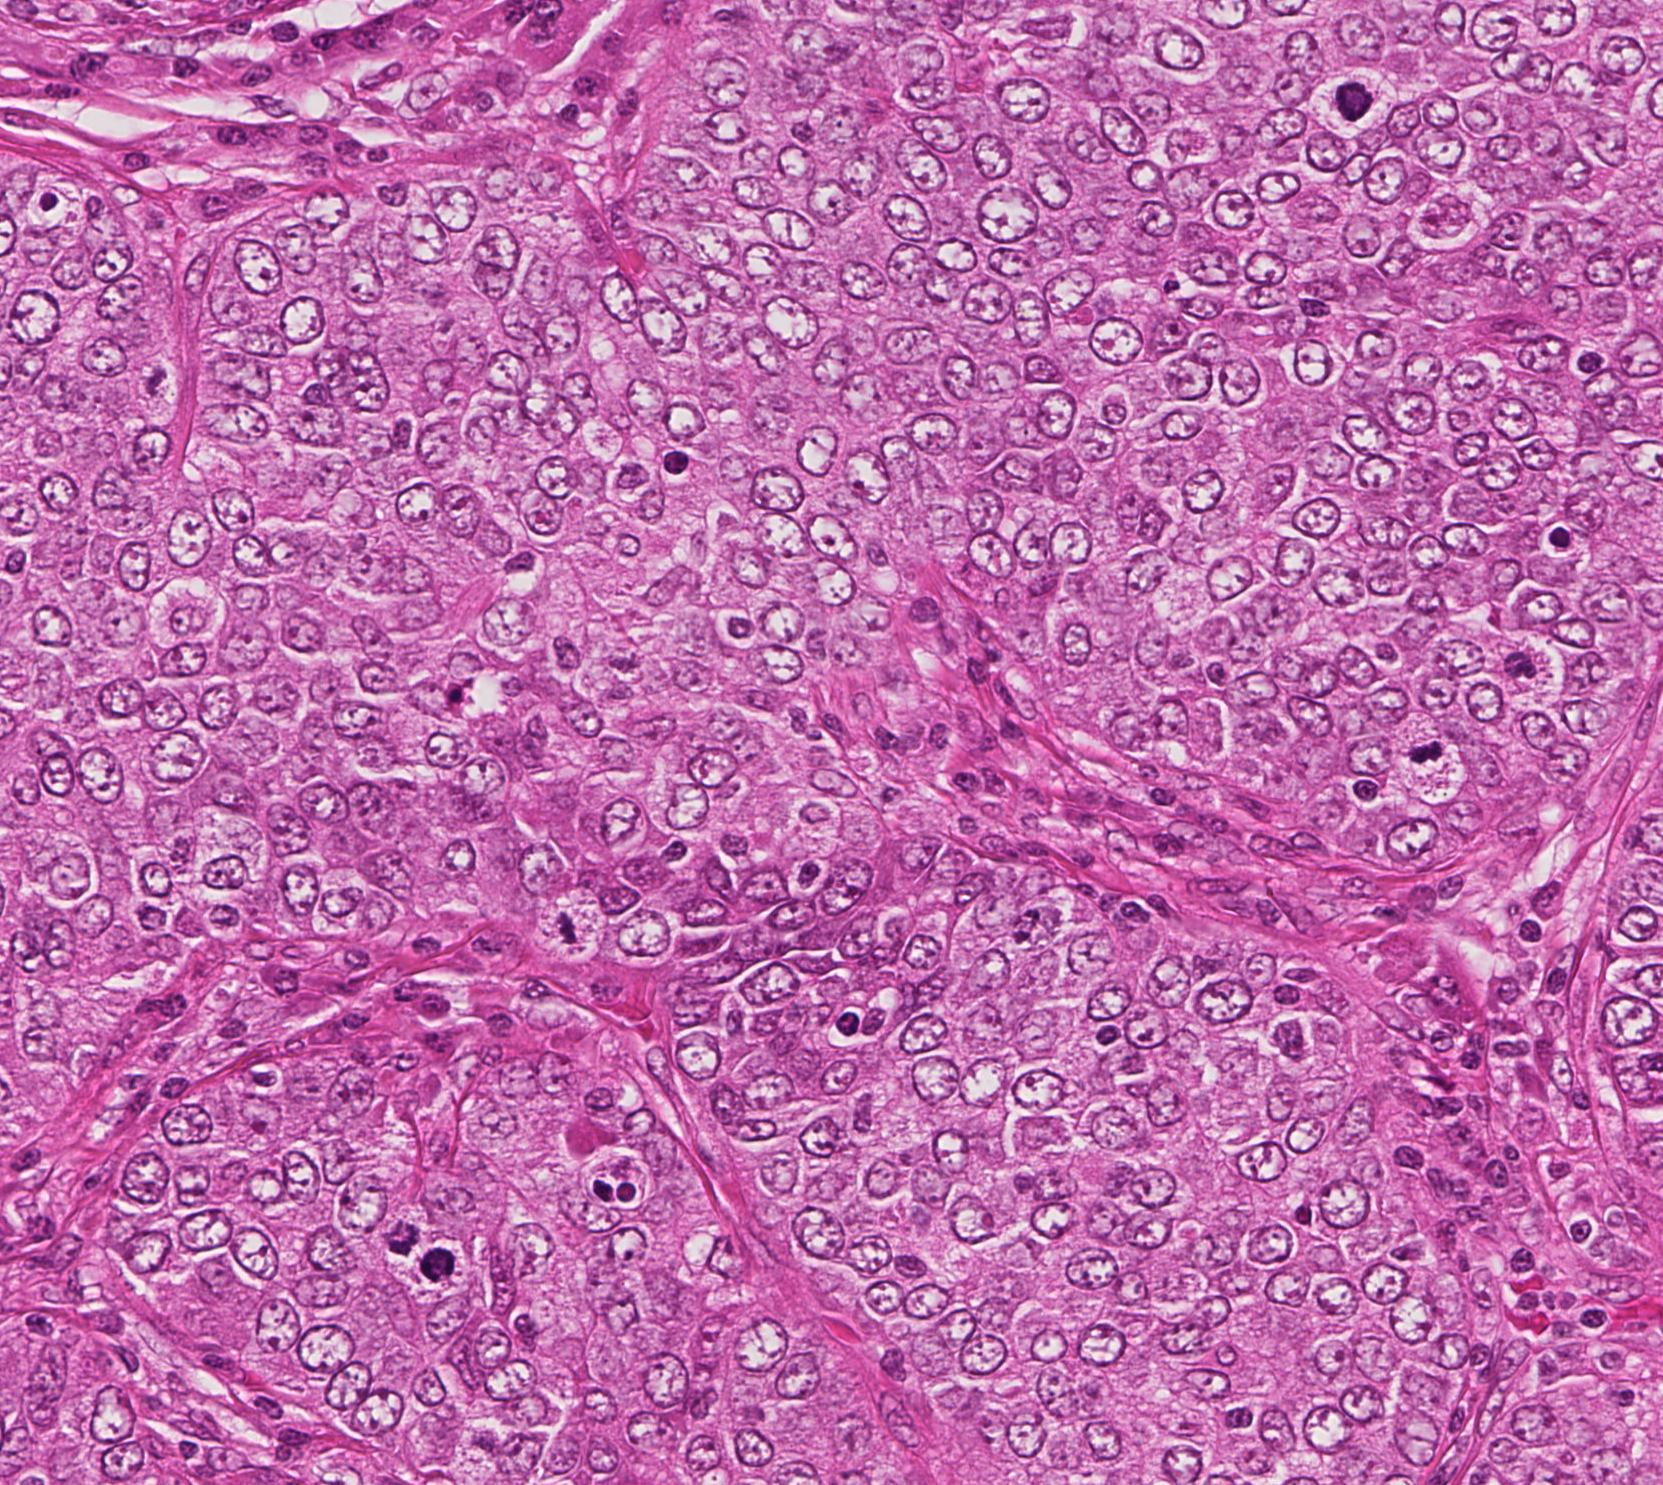mitosis: (1329, 65, 1389, 125), (406, 1237, 466, 1297), (1396, 725, 1457, 786), (1495, 636, 1555, 697), (540, 896, 601, 956), (122, 345, 182, 406)
